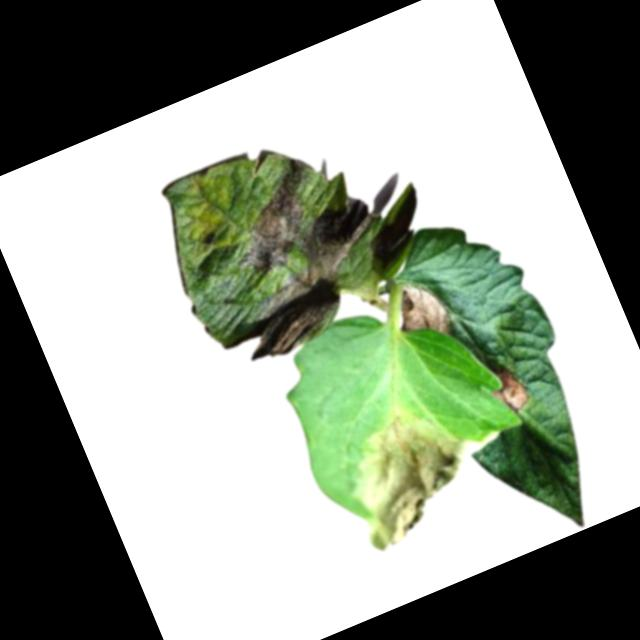Late_blight: (154, 138, 406, 376), (329, 392, 502, 558), (387, 269, 458, 350), (484, 363, 537, 421)
